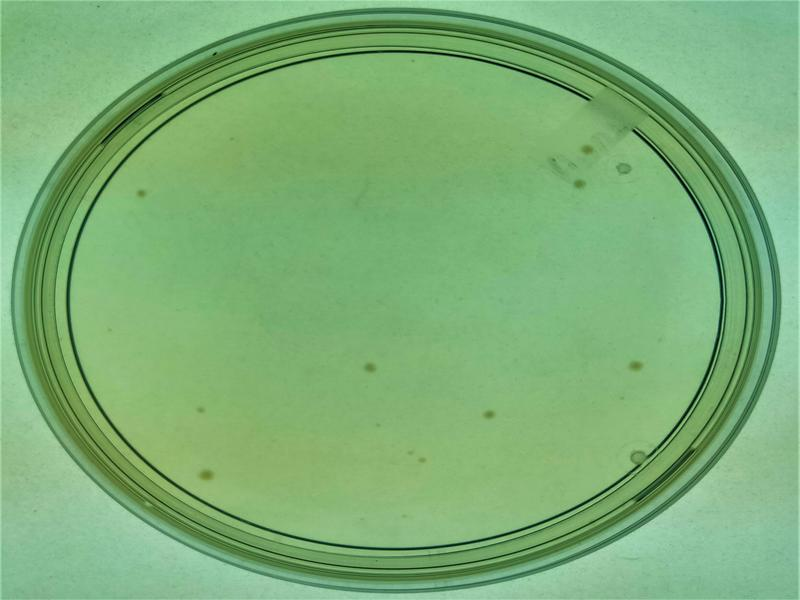colony: (352, 354, 384, 385), (478, 402, 507, 432), (618, 352, 652, 377), (188, 462, 218, 487), (186, 400, 217, 421), (124, 182, 153, 203)
